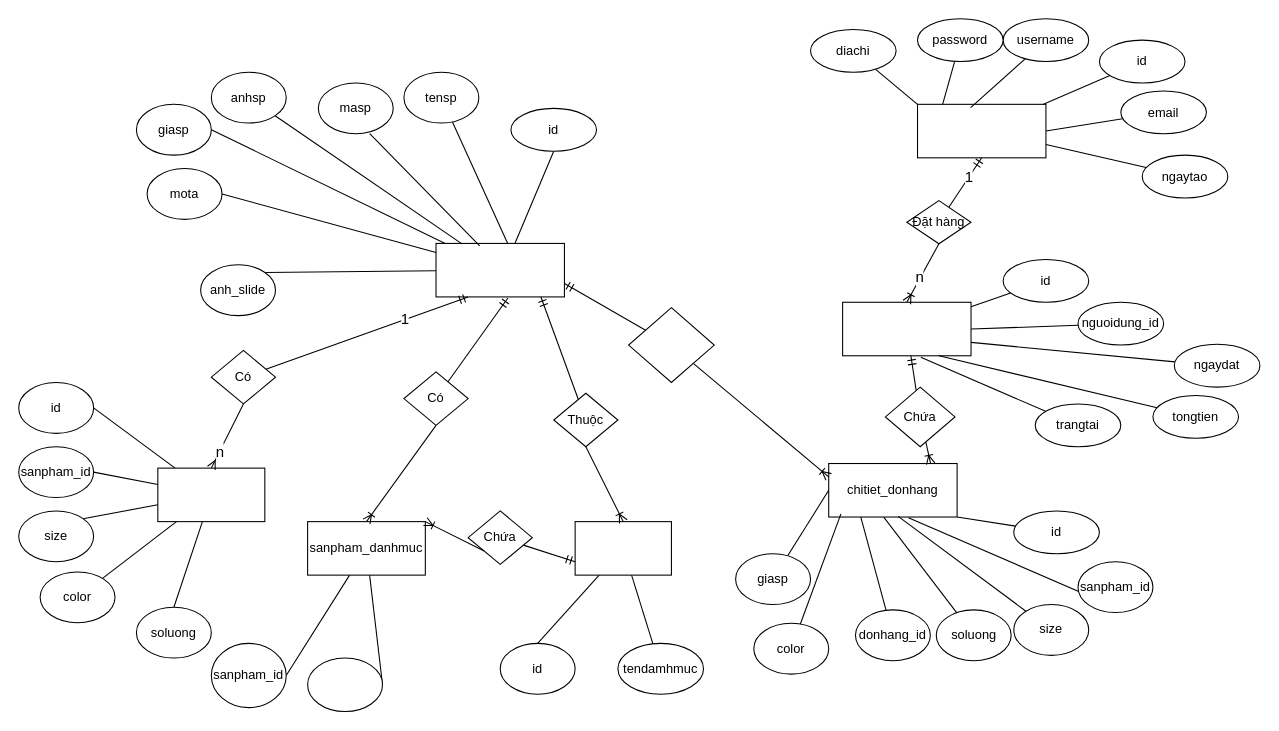
Some shapes in this 1279 by 731 pixel diagram are drawn without their labels. The shapes that lost their labels are listed below. From the top down, each one's centre as x and y in pixels, then its label:
At pixel 981 130: "nguoidung".
At pixel 499 269: "sanpham".
At pixel 671 345: "nằm trong".
At pixel 906 328: "donhang".
At pixel 211 494: "sanpham_chitiet".
At pixel 622 548: "danhmuc".
At pixel 345 684: "danhmuc_id".
